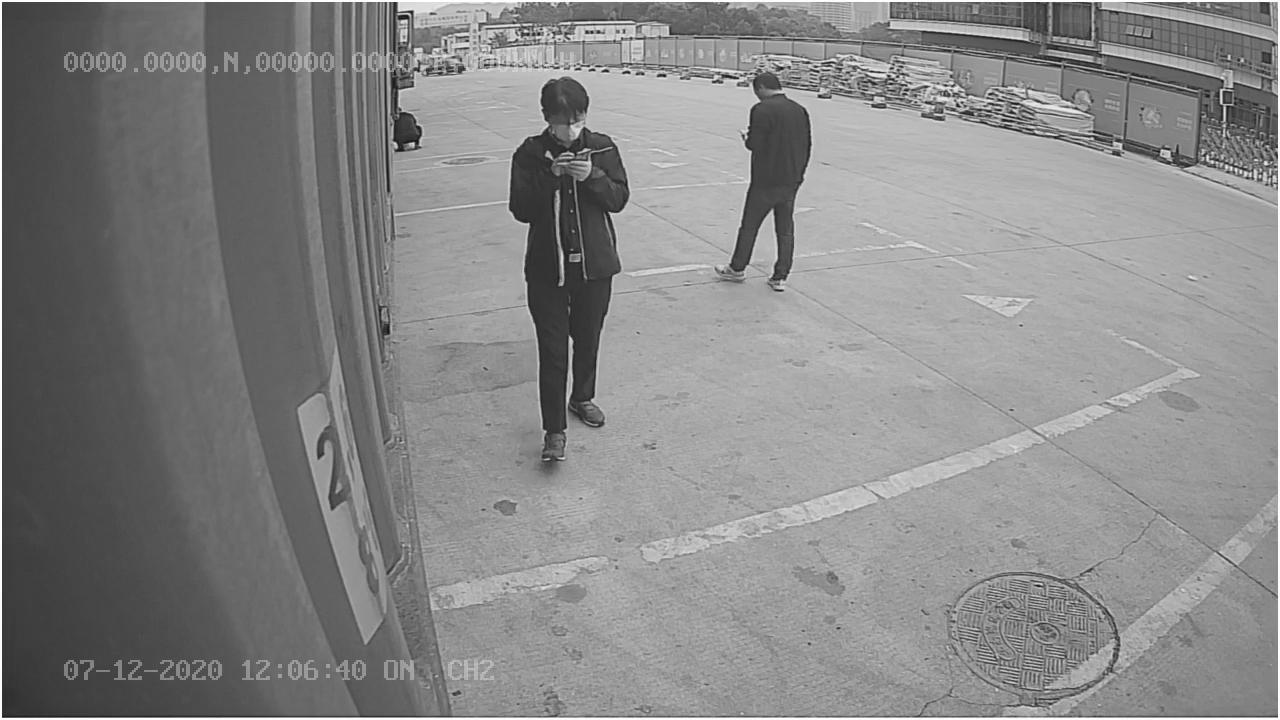person: (506, 69, 628, 463), (711, 65, 812, 297)
